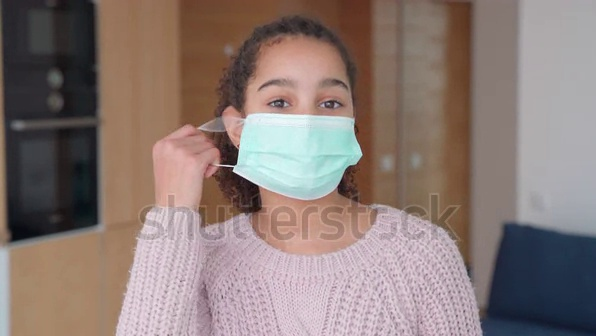Mask: (204, 111, 371, 203)
